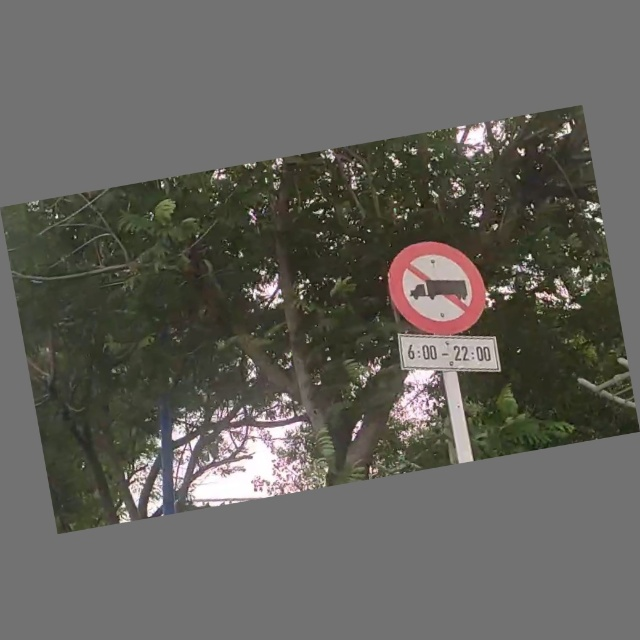B.8a: (371, 229, 509, 385)
